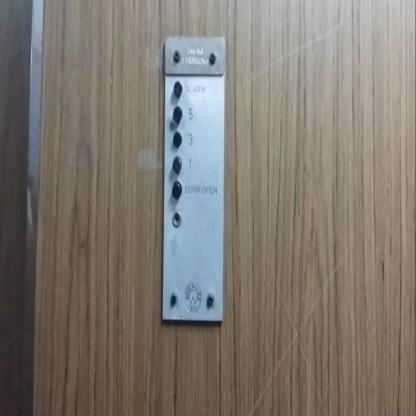empty: (172, 129, 182, 148), (172, 180, 182, 199), (173, 80, 182, 98), (173, 105, 182, 123), (172, 156, 181, 172)
indicator: (172, 209, 182, 228)
